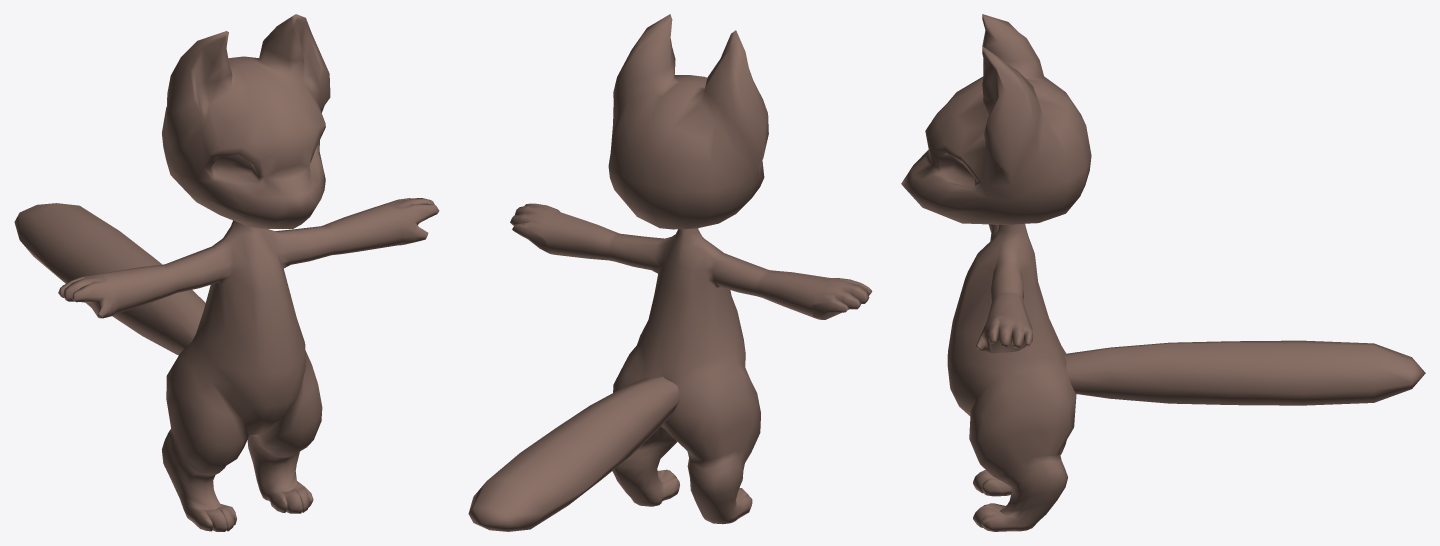
The model's file is Kemono_ver3.fbx.
3 renders of one model, left to right at view 1: azimuth 30°, elevation 25°; view 2: azimuth 150°, elevation 25°; view 3: azimuth 270°, elevation 25°, orthographic. The views are drawn at different scales.
Parts seen in each view (by area): view 1: polySurface3, polySurface4, pCylinder1; view 2: polySurface3, polySurface4, pCylinder1; view 3: polySurface3, polySurface4, pCylinder1.
Boxes of the visible parts, x1,y1,x2,y2 form: polySurface3: (58, 198, 439, 531); polySurface4: (162, 14, 330, 228); pCylinder1: (14, 203, 205, 355); polySurface3: (510, 203, 872, 524); polySurface4: (608, 14, 768, 229); pCylinder1: (468, 376, 679, 531); polySurface3: (947, 223, 1076, 531); polySurface4: (901, 14, 1091, 224); pCylinder1: (1064, 340, 1425, 405).
Size of the model in its own units: 64.71 by 83.37 by 83.26.
